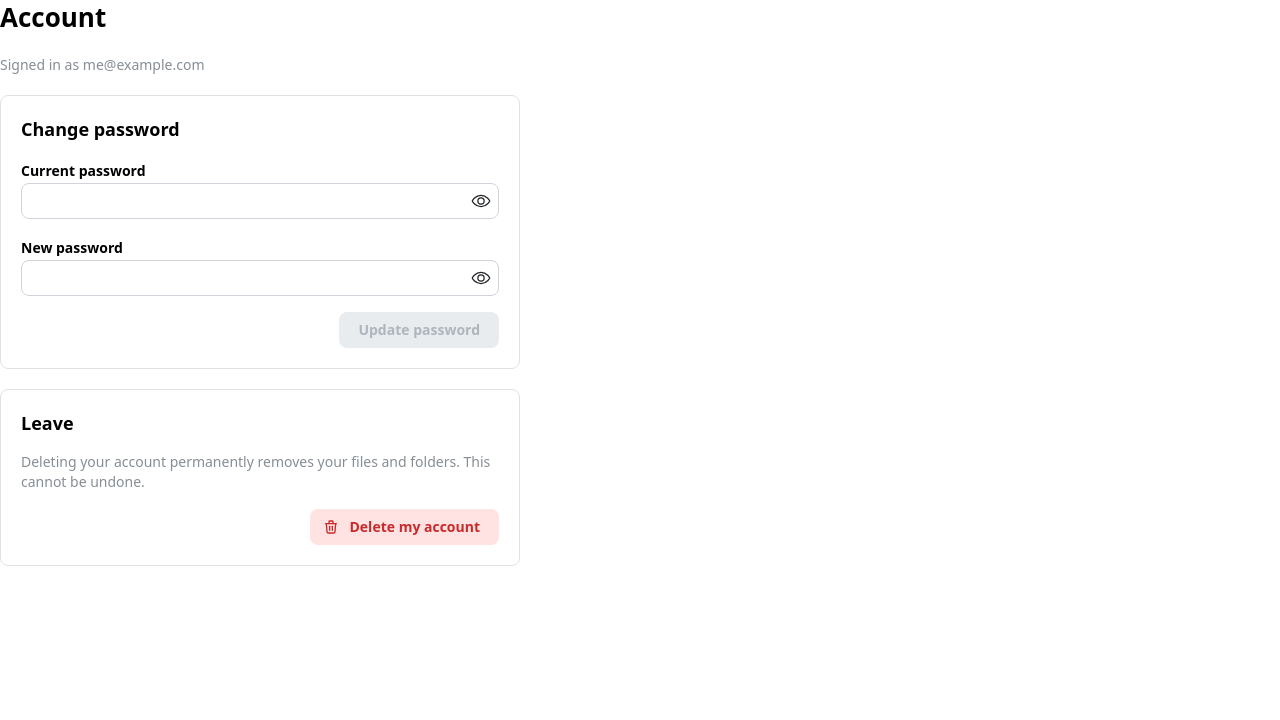
Test: AccountPage › shows an error when account deletion fails
What coordinates should you click on to do the following:
click the button "Delete my account"
I would click on:
 (405, 527)
Its box is [310,509,499,545].
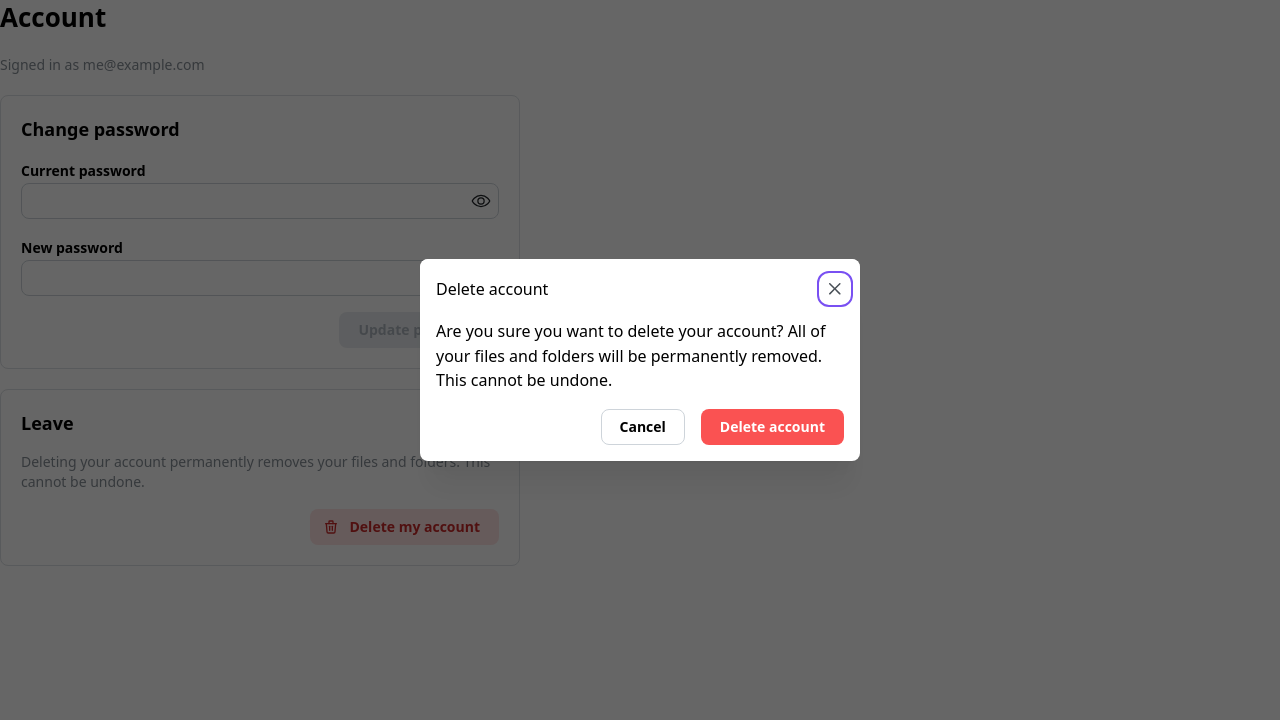
What coordinates should you click on to do the following:
click the button "Delete account"
I would click on:
 (772, 427)
Its box is [701,409,844,445].
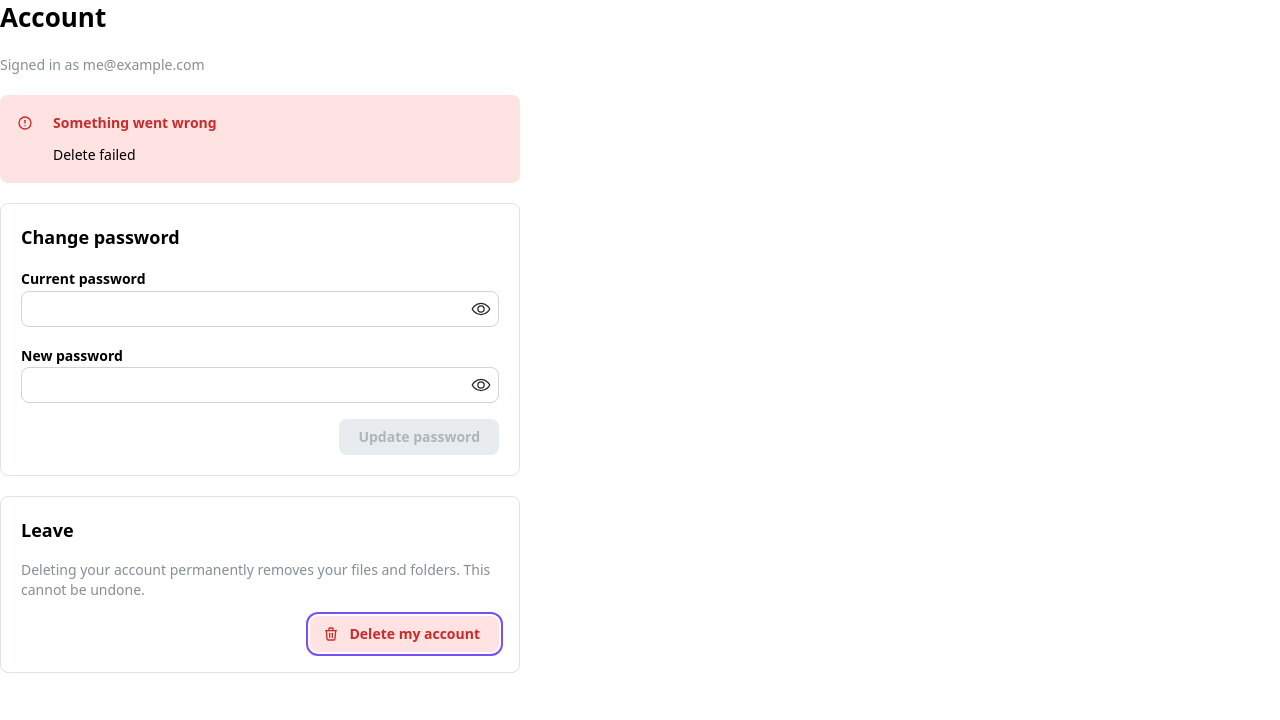
Result: the text "Delete failed" is shown at [53,145,136,164]
